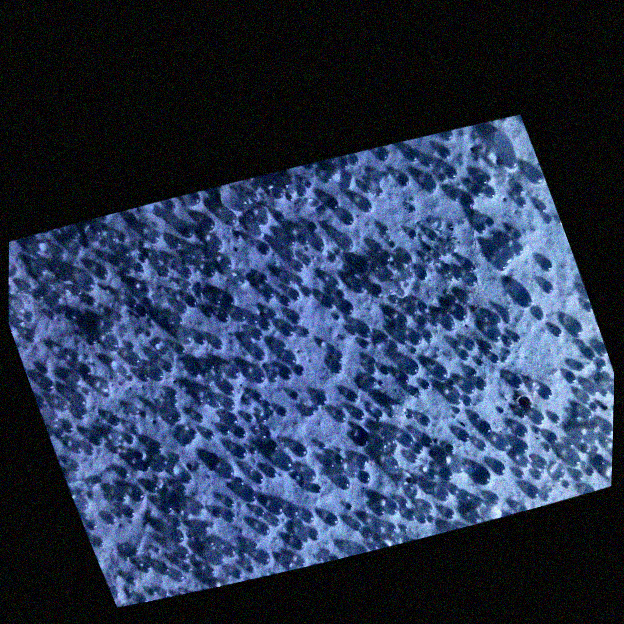GrassBeadSeg: (141, 216, 553, 550), (147, 297, 564, 597), (112, 184, 426, 563), (131, 198, 526, 491), (171, 228, 485, 582), (178, 225, 595, 466), (46, 276, 347, 602), (103, 224, 408, 530), (220, 184, 552, 453), (231, 257, 509, 575), (86, 296, 469, 520), (167, 249, 479, 507), (178, 272, 463, 528), (136, 307, 544, 478), (220, 216, 523, 446), (88, 330, 433, 530), (180, 267, 492, 485), (232, 326, 497, 578), (17, 253, 391, 431), (239, 243, 525, 475), (222, 197, 529, 411), (114, 312, 406, 532), (297, 236, 590, 453), (322, 231, 587, 467), (223, 263, 476, 509), (188, 327, 515, 515), (234, 281, 555, 470), (172, 446, 611, 583), (208, 236, 489, 450), (210, 237, 429, 510), (170, 376, 523, 541), (86, 375, 611, 479), (233, 307, 546, 481), (136, 377, 376, 600), (68, 354, 500, 472), (102, 339, 495, 466), (113, 205, 462, 348), (223, 278, 435, 513), (335, 218, 577, 422), (158, 343, 564, 464), (265, 232, 441, 509), (334, 238, 526, 490), (68, 373, 369, 529), (73, 292, 471, 408), (176, 384, 449, 553), (41, 292, 533, 385), (219, 384, 613, 493), (351, 243, 500, 531), (130, 360, 432, 502), (103, 334, 472, 442), (263, 285, 583, 409), (286, 314, 488, 507), (70, 272, 456, 362), (191, 212, 356, 422), (333, 333, 597, 463), (348, 268, 481, 523), (350, 258, 553, 423), (265, 274, 453, 449), (311, 270, 463, 486), (276, 326, 502, 470), (282, 196, 475, 364), (358, 326, 563, 484), (248, 377, 562, 480), (293, 333, 551, 457), (279, 179, 437, 380), (204, 211, 290, 575), (284, 234, 426, 454), (406, 203, 548, 419), (125, 350, 253, 585), (223, 380, 430, 522), (421, 270, 542, 510), (364, 273, 511, 470), (90, 434, 540, 498), (266, 236, 353, 567), (356, 260, 469, 514), (207, 436, 434, 562), (397, 218, 495, 508), (279, 223, 590, 312), (224, 445, 612, 515), (444, 215, 550, 454), (40, 299, 215, 439), (349, 280, 553, 400), (84, 446, 410, 520), (109, 298, 187, 598), (300, 329, 418, 520), (290, 290, 408, 479), (530, 170, 608, 452), (162, 321, 583, 372), (170, 429, 386, 528), (520, 185, 587, 501), (162, 365, 272, 536), (224, 415, 373, 539), (249, 327, 581, 382), (400, 195, 522, 343), (304, 224, 509, 312), (125, 251, 443, 307), (463, 260, 548, 469), (55, 399, 266, 483), (71, 274, 268, 361), (165, 474, 330, 567), (285, 457, 532, 518), (248, 246, 311, 472), (231, 446, 573, 487), (192, 358, 418, 418), (17, 236, 146, 341), (126, 462, 234, 584), (158, 364, 242, 514), (175, 452, 461, 496), (399, 387, 542, 472), (154, 347, 267, 454), (279, 323, 416, 408), (69, 382, 232, 453), (293, 412, 545, 455), (498, 342, 607, 441), (208, 504, 384, 565), (171, 314, 225, 502), (177, 454, 258, 572), (204, 182, 293, 285), (297, 231, 403, 314), (59, 343, 135, 452), (309, 407, 406, 484), (114, 369, 210, 444), (159, 344, 190, 560), (450, 346, 485, 507), (268, 296, 342, 372), (259, 171, 331, 246), (168, 182, 260, 237), (54, 231, 108, 320), (8, 246, 68, 319), (233, 365, 292, 439), (61, 251, 129, 313), (428, 364, 464, 480), (547, 402, 612, 466), (413, 316, 482, 376), (157, 224, 211, 297), (328, 513, 434, 549), (96, 510, 161, 568), (11, 266, 81, 318), (224, 284, 294, 335), (170, 531, 269, 565), (146, 296, 213, 346), (348, 149, 418, 195), (440, 316, 474, 408), (271, 500, 331, 551), (403, 478, 471, 522), (74, 446, 118, 509), (294, 261, 349, 311), (107, 486, 181, 523), (76, 335, 108, 418), (303, 455, 401, 482), (55, 224, 127, 260), (322, 159, 370, 212), (296, 222, 336, 284), (107, 406, 181, 439), (125, 229, 161, 295), (354, 413, 398, 467), (398, 145, 457, 185), (238, 211, 271, 282), (444, 267, 460, 413), (369, 357, 448, 383), (386, 275, 427, 325), (193, 338, 224, 402), (236, 314, 291, 350), (87, 335, 152, 365), (315, 393, 393, 418), (569, 428, 605, 482), (126, 401, 172, 443), (485, 157, 530, 197), (264, 274, 301, 322), (109, 375, 135, 443), (184, 512, 213, 571), (200, 521, 247, 557), (377, 379, 401, 449), (139, 452, 178, 492), (494, 316, 511, 407), (377, 237, 412, 279), (438, 129, 458, 201), (142, 561, 183, 596), (331, 339, 369, 373), (394, 257, 432, 290), (78, 496, 134, 518), (478, 312, 501, 364), (264, 373, 279, 451), (333, 303, 360, 345), (327, 249, 349, 299), (570, 407, 597, 447), (335, 254, 390, 272), (451, 175, 491, 198), (187, 289, 221, 316), (382, 322, 413, 351), (125, 358, 164, 381), (245, 409, 274, 436), (491, 437, 508, 476), (399, 321, 426, 344), (514, 440, 530, 472), (246, 392, 263, 421), (206, 310, 247, 321), (551, 464, 567, 481), (154, 457, 167, 471), (531, 171, 545, 184)
